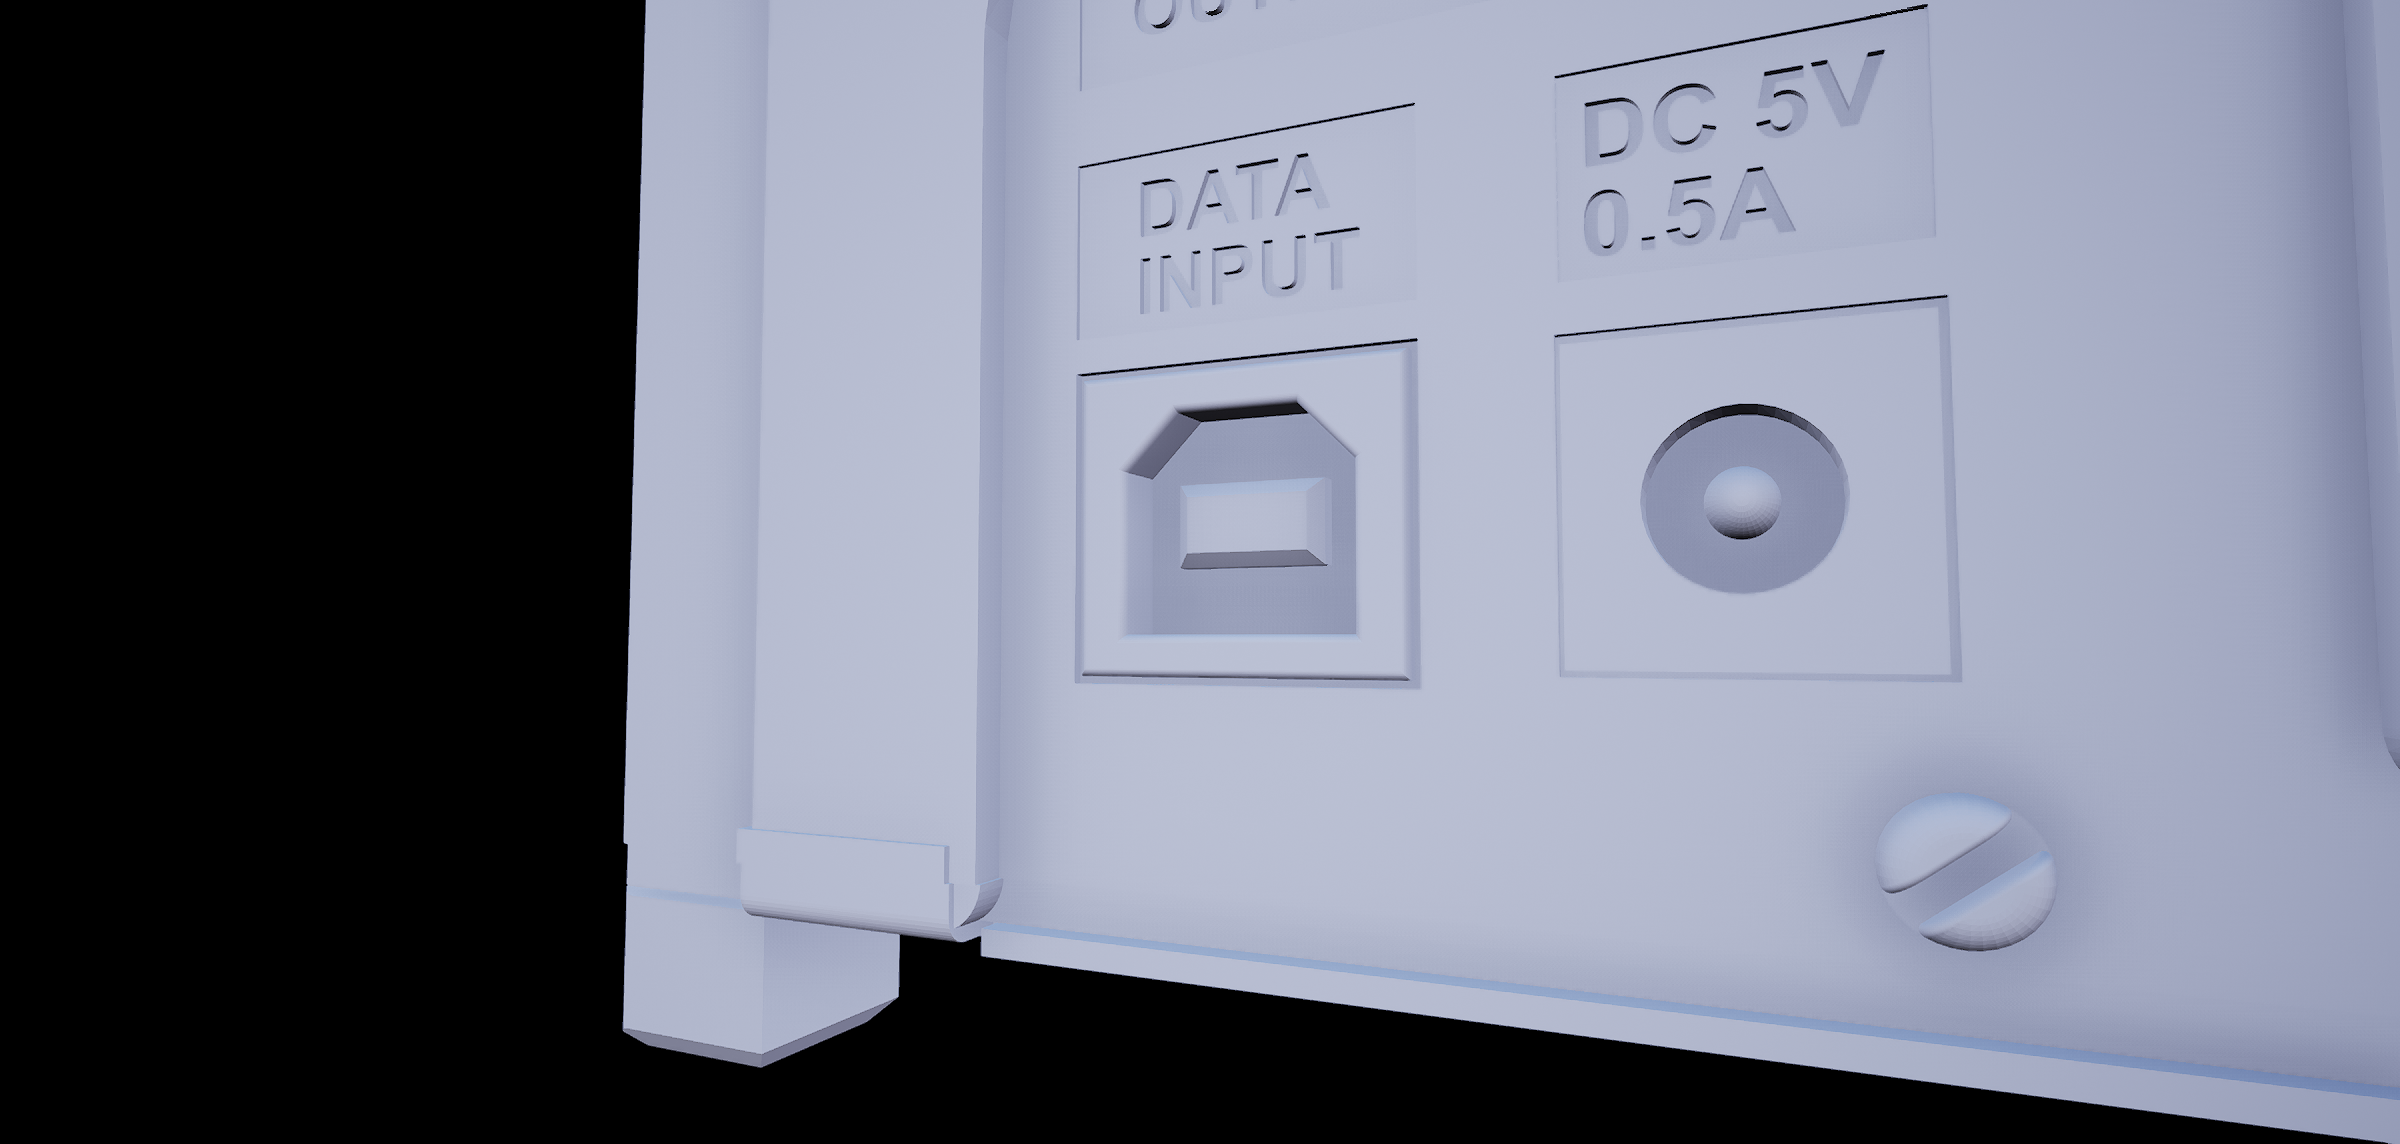dc: (1636, 395, 1883, 600)
usb: (1108, 394, 1365, 652)
